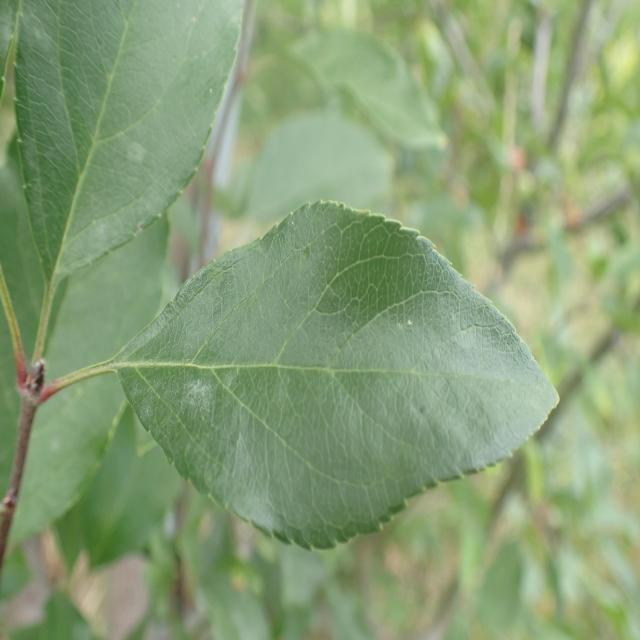Powdery_mildew: (91, 208, 568, 547)
